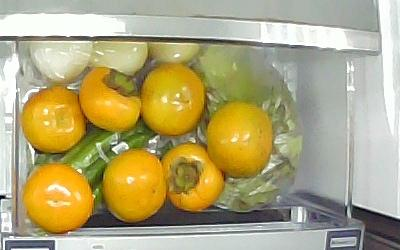persimmon: (206, 101, 273, 179), (22, 164, 93, 233), (140, 62, 205, 137), (103, 148, 166, 224), (160, 142, 224, 212), (22, 86, 86, 154), (78, 66, 141, 133)
